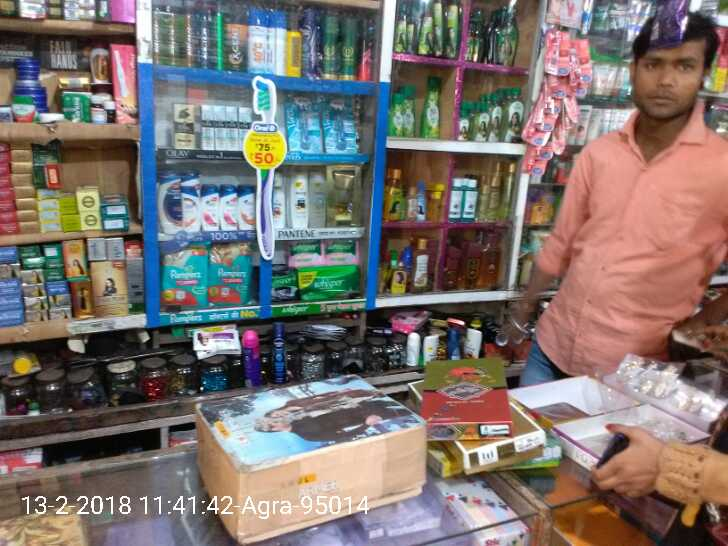venus: (322, 97, 357, 152), (290, 97, 322, 149)
